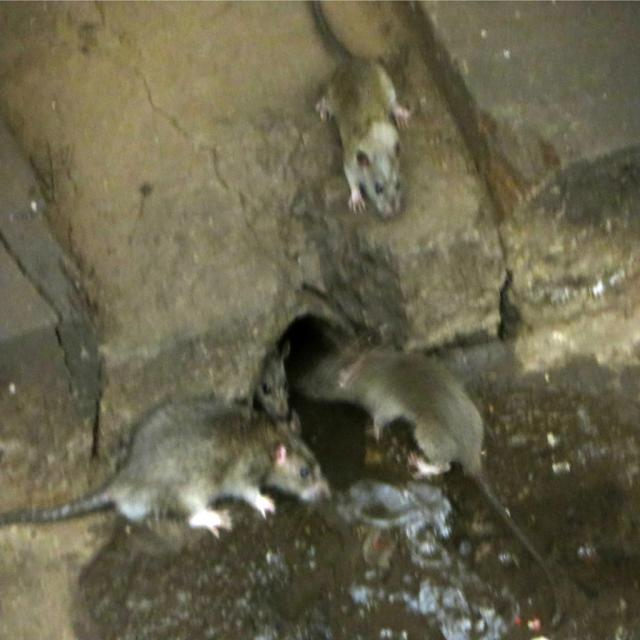rat: (308, 336, 566, 634), (0, 400, 329, 541), (313, 0, 412, 223), (252, 343, 292, 427)
